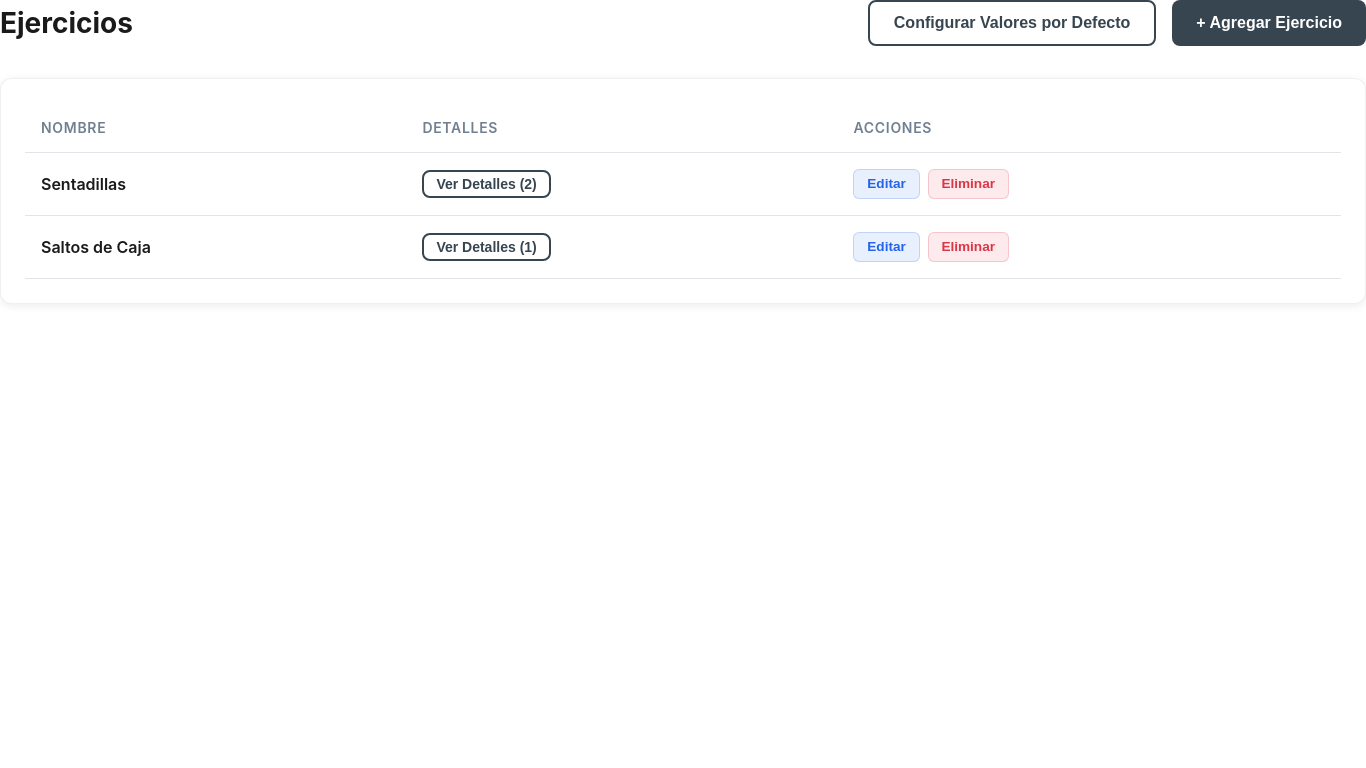
Scenario: ExercisesPage › cierra el modal de campos al hacer clic en Cerrar
The width and height of the screenshot is (1366, 768).
Click the button "Ver Detalles (2)" at (487, 184), box [422,170,551,198]
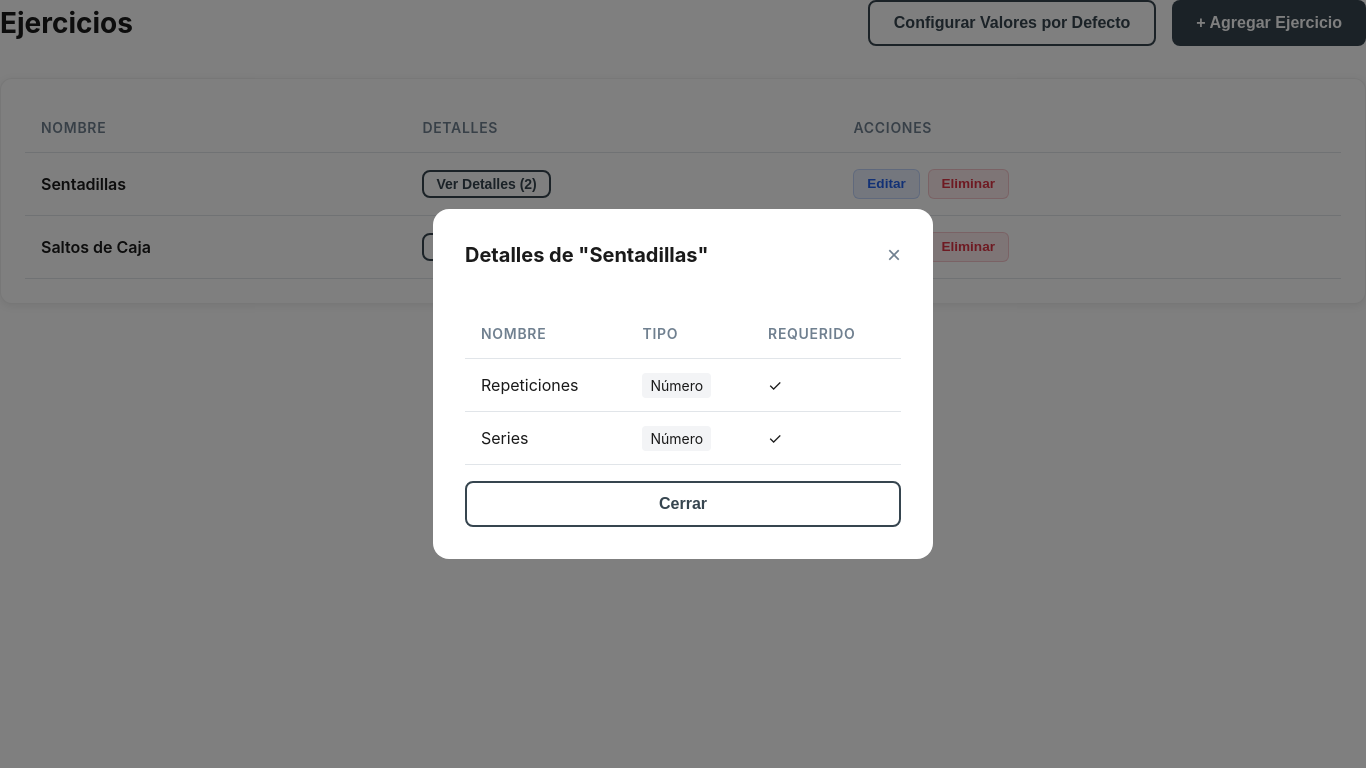
expect the heading "Detalles de \"Sentadillas\"" is shown: met, box [465,243,708,267]
Click the button "Cerrar" at (683, 504), box [465,481,901,527]
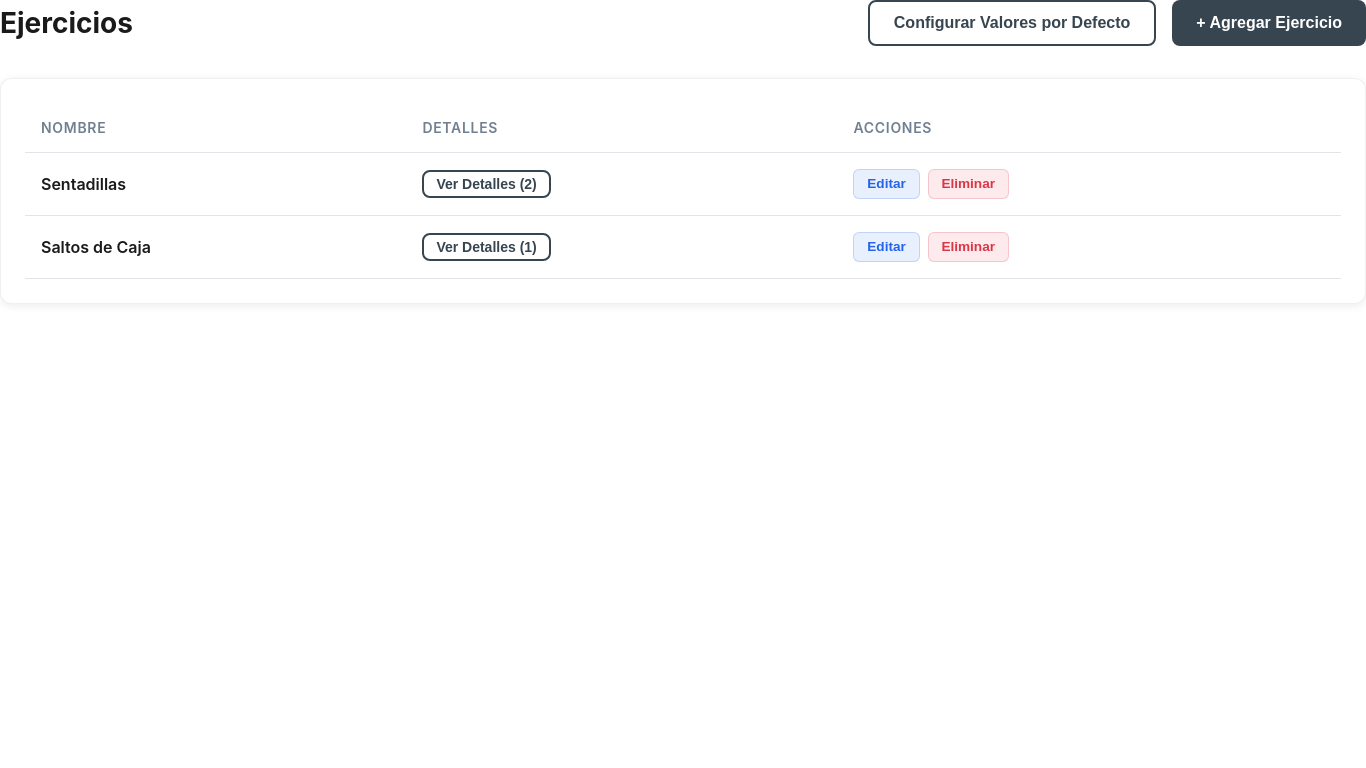
expect the heading "Detalles de \"Sentadillas\"" is gone: met
